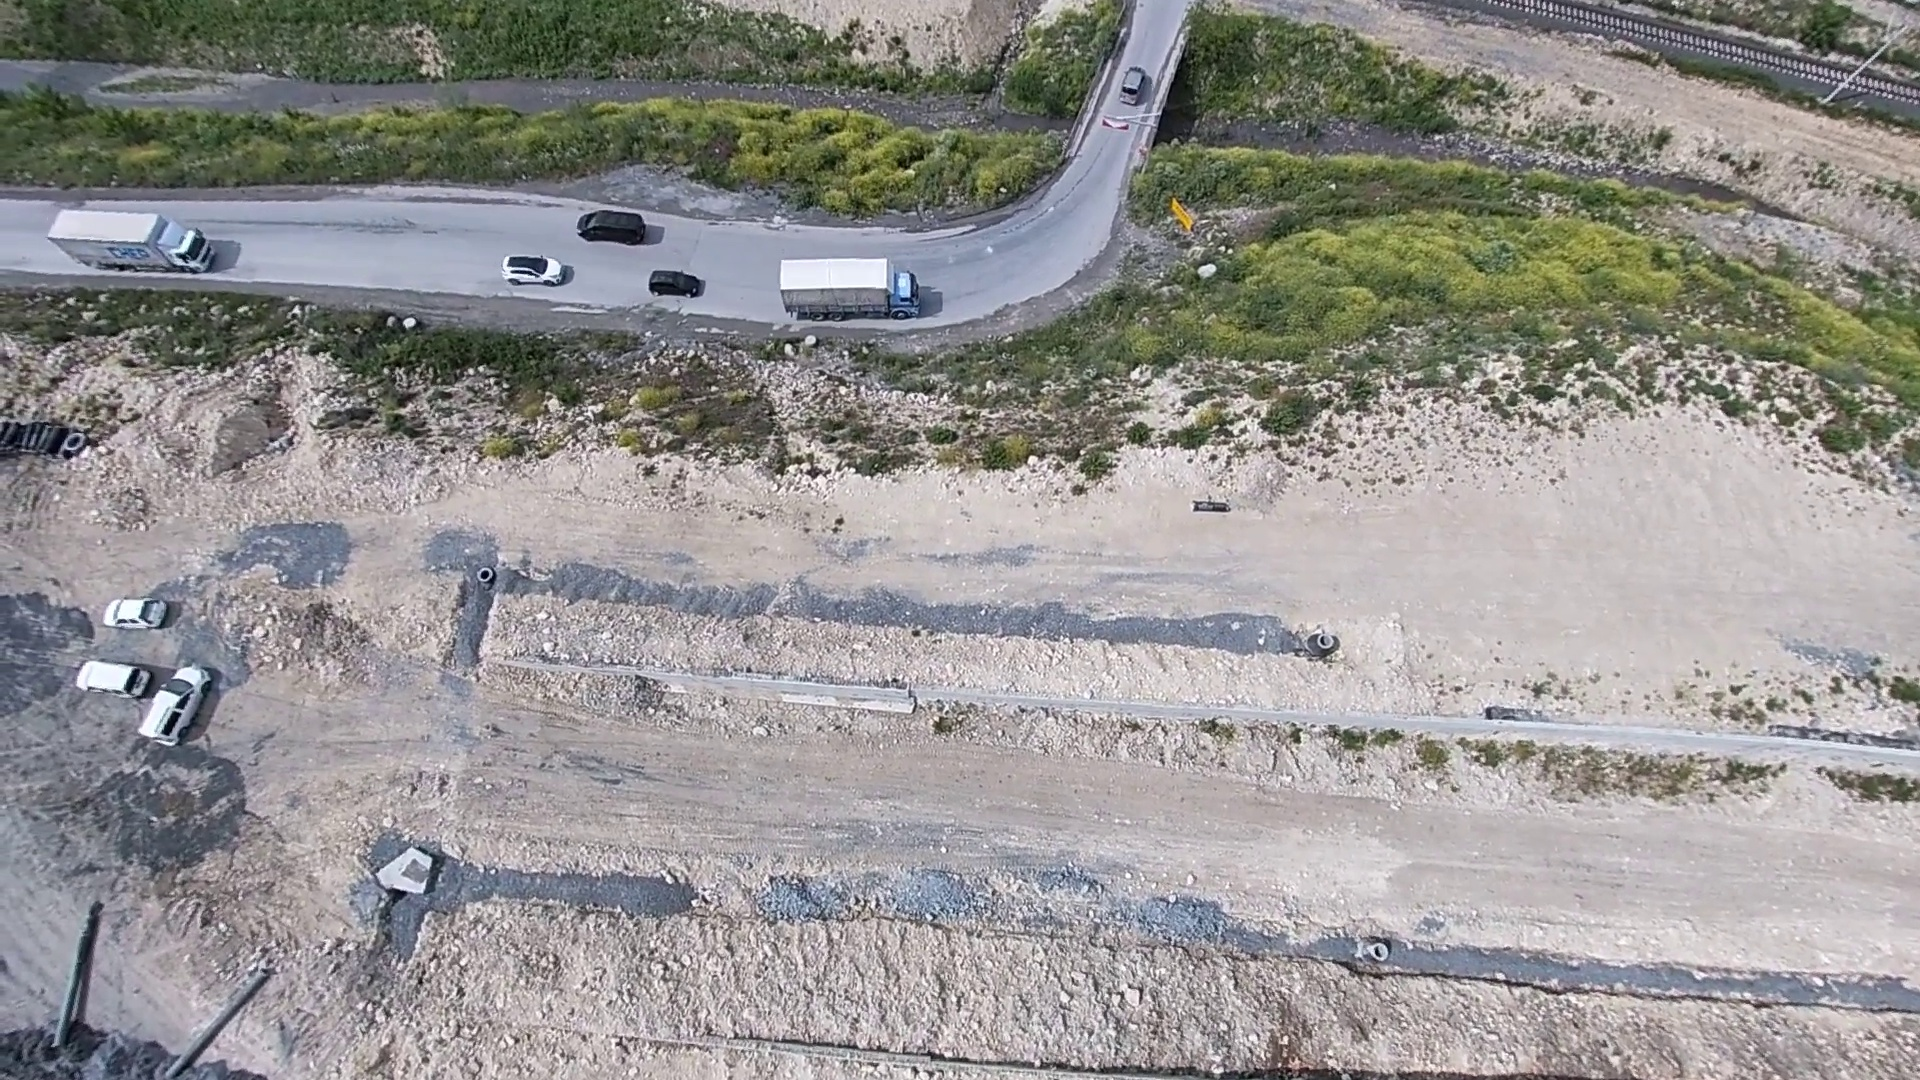araba: (135, 659, 218, 760), (65, 655, 154, 705), (575, 207, 655, 243), (500, 253, 566, 291), (102, 595, 173, 629), (645, 268, 703, 298), (1112, 65, 1147, 105)
kamyon: (40, 204, 225, 276), (781, 253, 928, 322)
